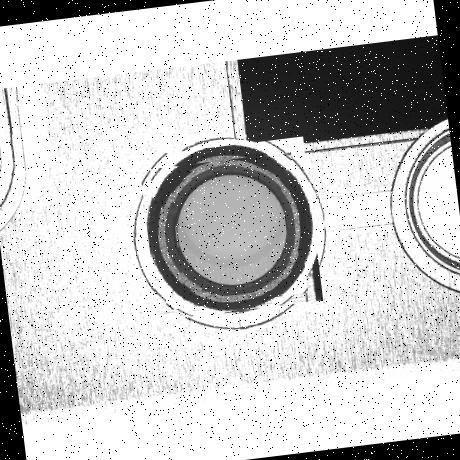Hole: (139, 137, 323, 321)
Hole2: (150, 152, 309, 310)
Hole3: (158, 159, 302, 303)
Hole4: (170, 168, 292, 292)
